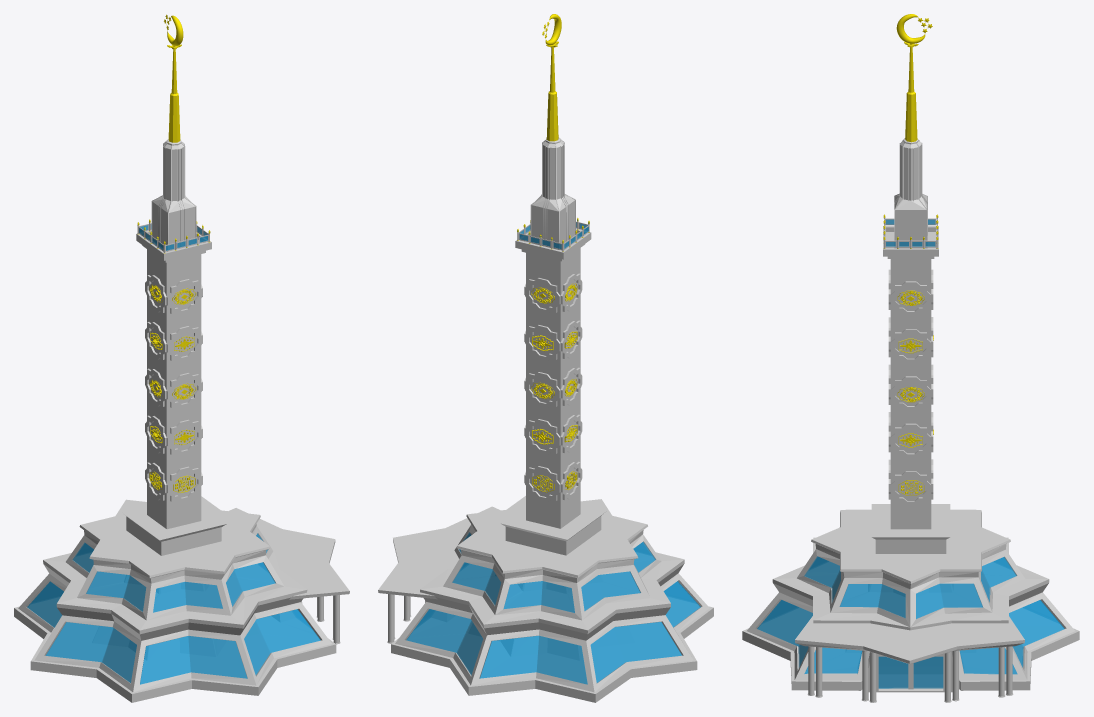
Rendered from KONSTITUSIYA.FBX.
The picture shows the model from 3 angles, left to right: view 1: azimuth 30°, elevation 25°; view 2: azimuth 150°, elevation 25°; view 3: azimuth 270°, elevation 25°; orthographic projection.
Visible parts, largest first — view 1: BOX37, BOX39, BOX38, BOX30; view 2: BOX37, BOX39, BOX38, BOX30; view 3: BOX37, BOX39, BOX38, BOX40, BOX30.
Boxes of the visible parts, x1,y1,x2,y2 form: BOX37: (14, 139, 349, 702); BOX39: (27, 581, 320, 684); BOX38: (72, 533, 275, 612); BOX30: (167, 44, 181, 142); BOX37: (378, 137, 713, 702); BOX39: (406, 581, 700, 684); BOX38: (452, 532, 655, 612); BOX30: (546, 41, 558, 141); BOX37: (742, 138, 1079, 692); BOX39: (757, 600, 1064, 674); BOX38: (804, 556, 1016, 618); BOX40: (878, 656, 943, 688); BOX30: (904, 42, 918, 142).
Size of the model in its own units: 2515 by 4888 by 2389.
